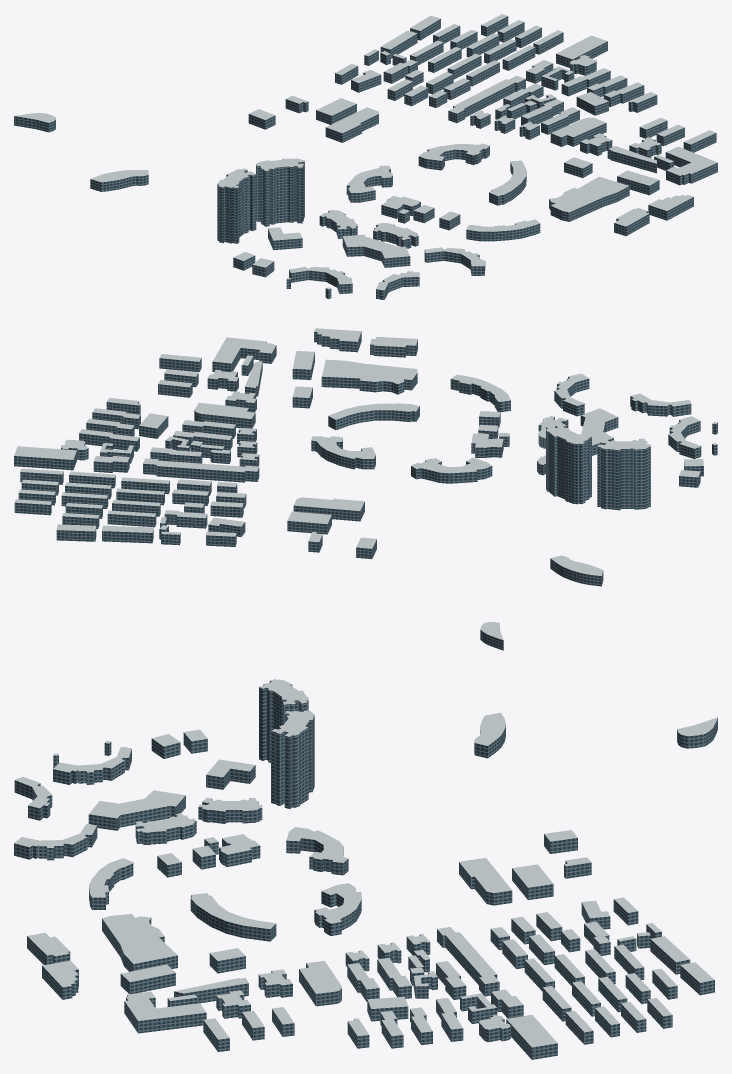
3 views of the same model, one above another, from view 1: azimuth 30°, elevation 25°; view 2: azimuth 150°, elevation 25°; view 3: azimuth 270°, elevation 25° (orthographic). The views are drawn at different scales.
Size of the model in its own units: 696 by 70.04 by 619.
2 materials, 1 textured.
